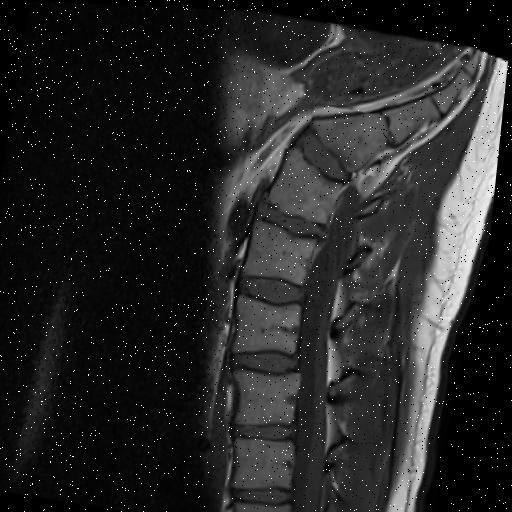L1: (243, 435, 303, 483)
L2: (242, 368, 308, 423)
L3: (241, 293, 308, 348)
L4: (249, 218, 321, 281)
L5: (272, 145, 344, 220)
S1: (313, 109, 391, 168)
